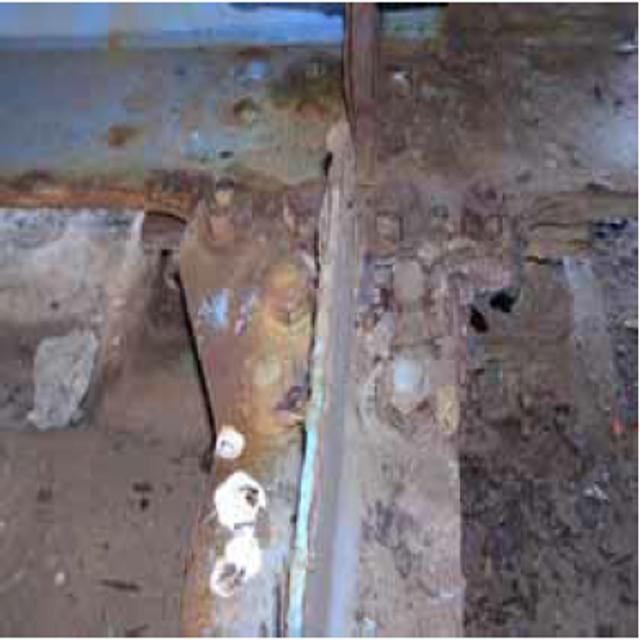corrosion: (25, 17, 634, 637)
